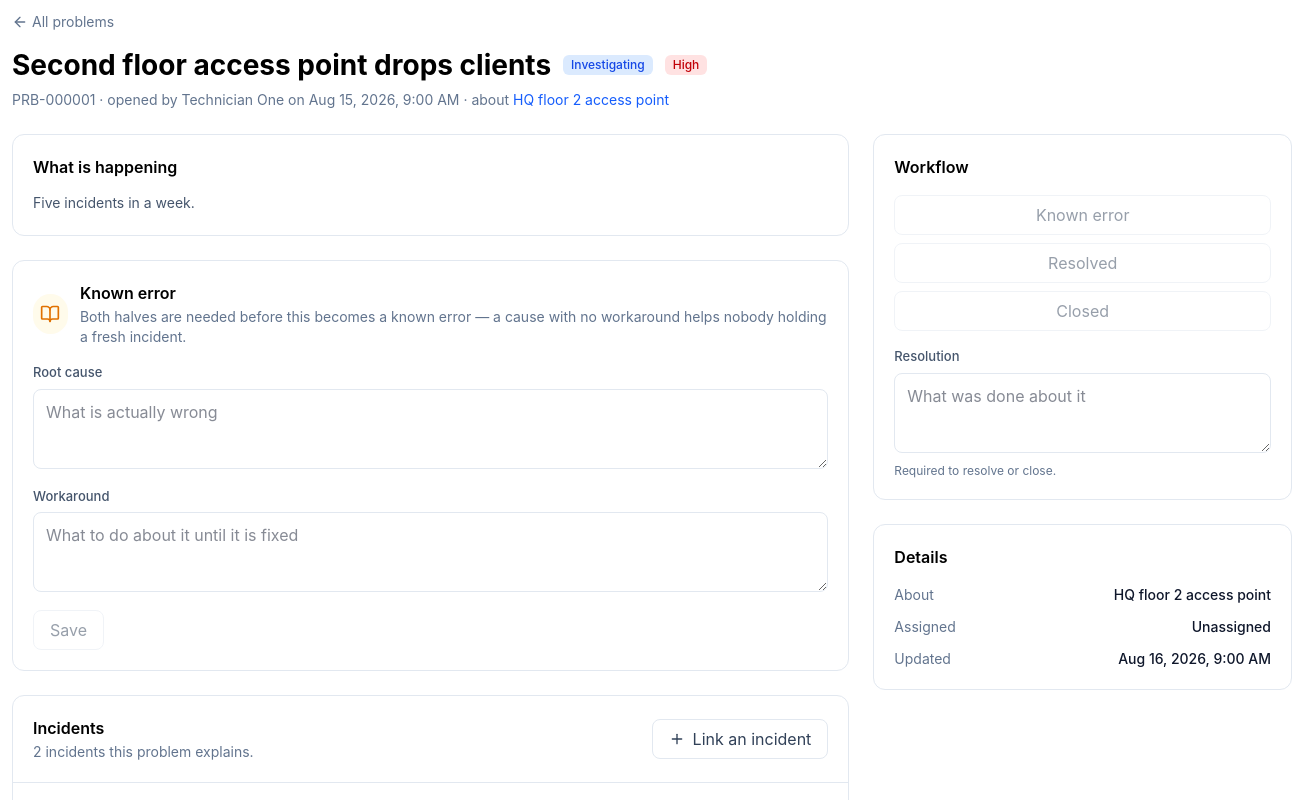
it: resolving and closing stay unavailable until a resolution is written
Expected: the heading "Second floor access point drops clients" is shown, [12,44,551,86]
Expected: the button "Closed" is disabled, [894,291,1271,331]
Type "Access point replaced under warranty." into the text box labelled "Resolution" at x=1083, y=412, box [894,372,1271,452]
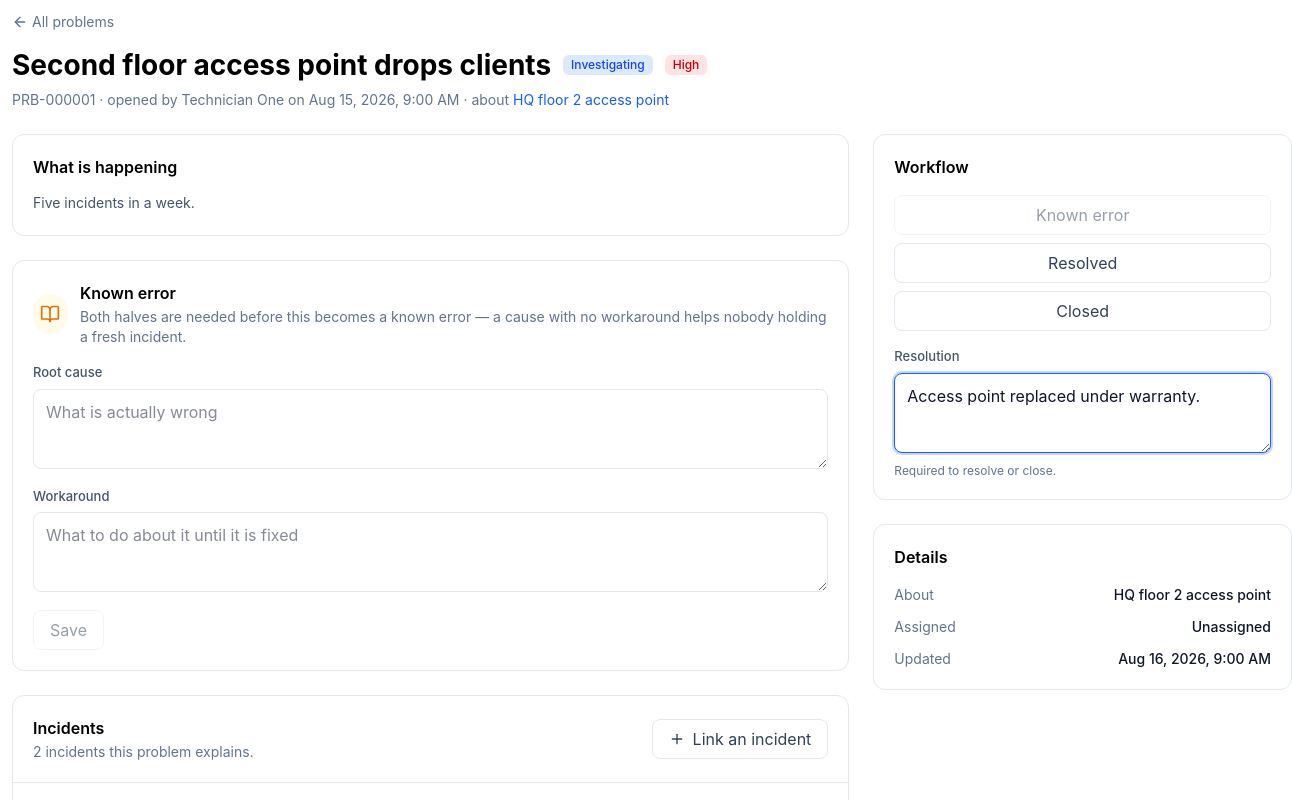
Expected: the button "Closed" is enabled, [894,291,1271,331]
